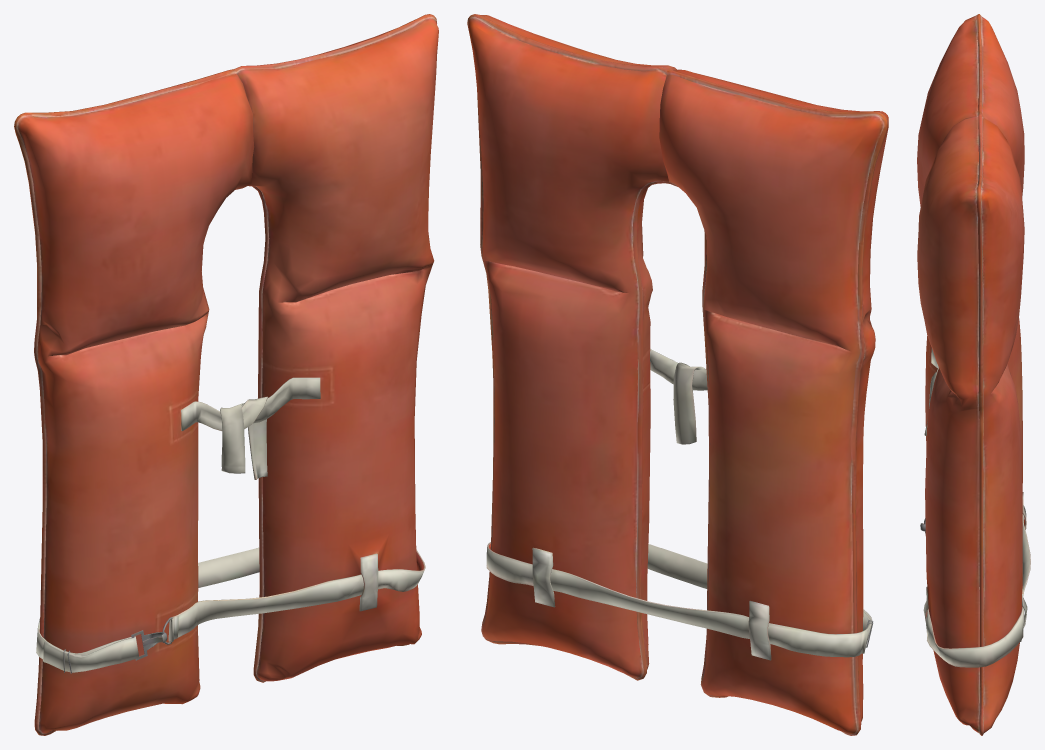
File: life_jacket.glb
3 renders of one model, left to right at view 1: azimuth 30°, elevation 25°; view 2: azimuth 150°, elevation 25°; view 3: azimuth 270°, elevation 25°, orthographic. The views are drawn at different scales.
Parts seen in each view (by area): view 1: life_jacket; view 2: life_jacket; view 3: life_jacket.
Part boxes in pixels (left/top/right/bottom): life_jacket: left=14, top=14, right=438, bottom=735; life_jacket: left=467, top=14, right=888, bottom=735; life_jacket: left=917, top=14, right=1030, bottom=735.
Size of the model in its own units: 0.6956 by 0.9923 by 0.1841.
1 material, 1 textured.
